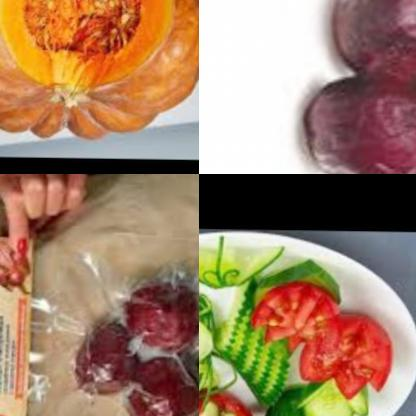beet: (64, 280, 199, 416), (298, 63, 416, 174), (332, 0, 416, 82)
cucumber: (216, 288, 293, 410), (255, 386, 366, 416)
pumpkin: (0, 0, 199, 150)
tomato: (294, 311, 402, 401), (252, 281, 339, 361), (199, 387, 266, 416)
